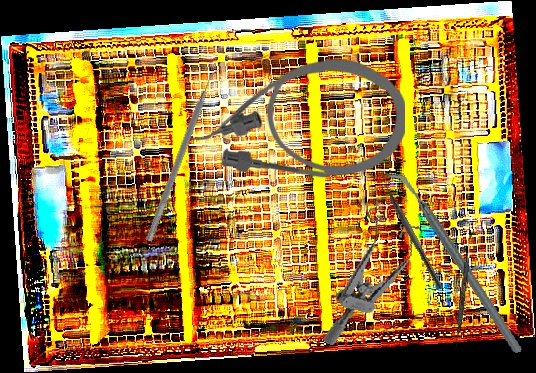Cannula: (187, 58, 407, 180)
Chopper: (386, 154, 524, 370), (376, 172, 451, 290)
Spatula Surgical: (145, 64, 223, 245), (454, 232, 473, 350)
Speculum: (323, 196, 424, 360)
